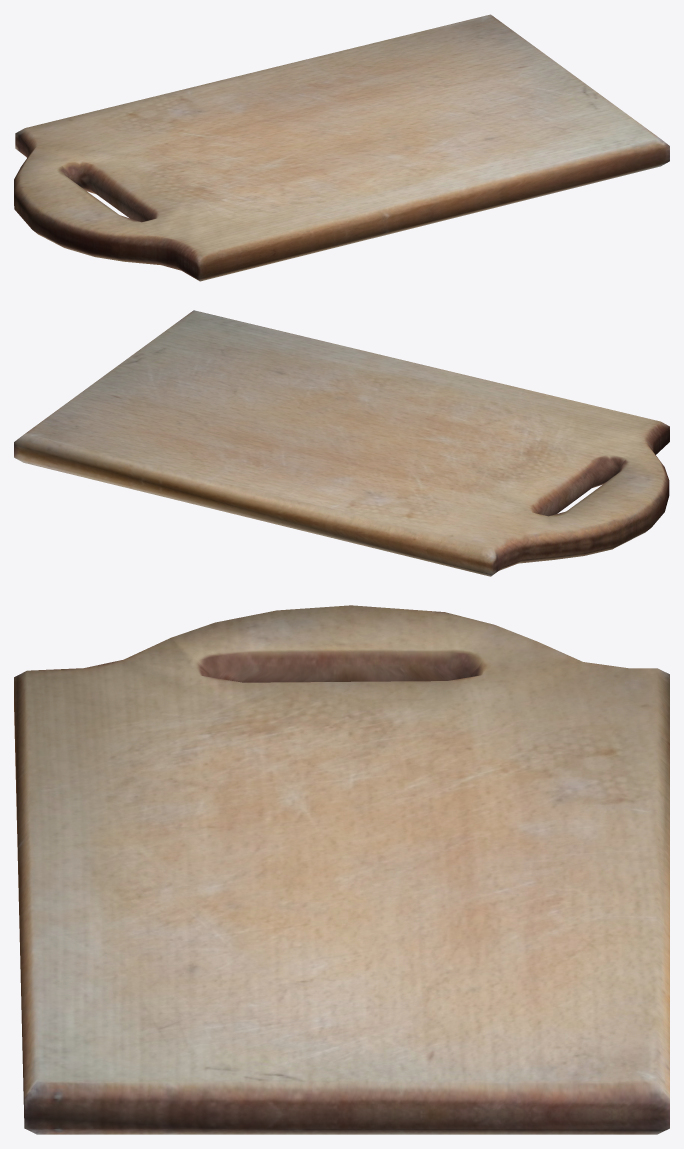
The model's file is Kitchen_board.obj.
The picture shows the model from 3 angles, top to bottom: view 1: azimuth 30°, elevation 25°; view 2: azimuth 150°, elevation 25°; view 3: azimuth 270°, elevation 25°; orthographic projection. The views are drawn at different scales.
Parts seen in each view (by area): view 1: Kitchen_board; view 2: Kitchen_board; view 3: Kitchen_board.
Part boxes in pixels (box(x1,y1,x2,y2)): Kitchen_board: box(14, 14, 669, 281); Kitchen_board: box(14, 310, 669, 576); Kitchen_board: box(14, 605, 669, 1134).
Size of the model in its own units: 24.26 by 1.18 by 13.75.
